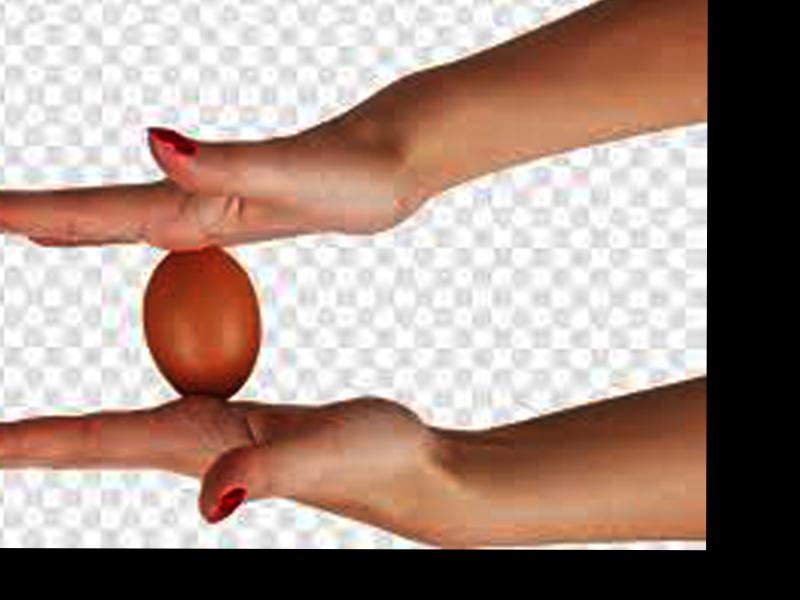Eggs: (147, 246, 260, 397)
